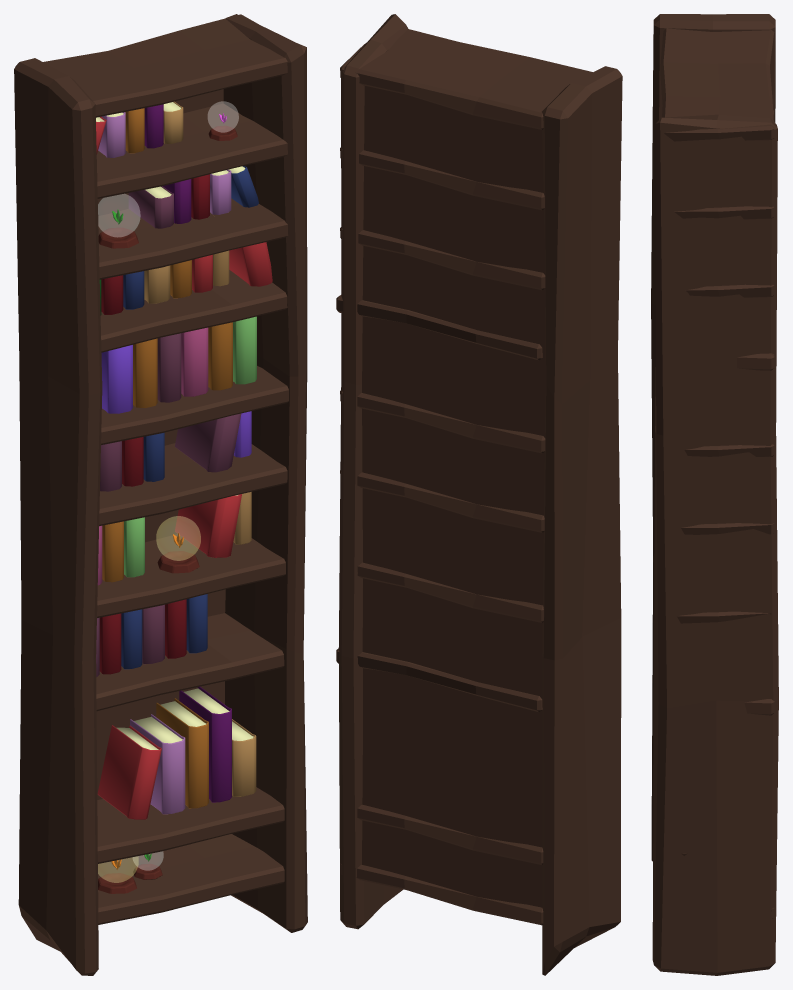
File: bookshelf3.fbx
3 renders of one model, left to right at view 1: azimuth 30°, elevation 25°; view 2: azimuth 150°, elevation 25°; view 3: azimuth 270°, elevation 25°, orthographic. The views are drawn at different scales.
Parts seen in each view (by area): view 1: Plane.004; view 2: Plane.004; view 3: Plane.004.
Part boxes in pixels (x1,y1,x2,y2): Plane.004: (14,14,307,975); Plane.004: (336,14,622,975); Plane.004: (651,14,778,975).
Size of the model in its own units: 170 by 596 by 80.77.
